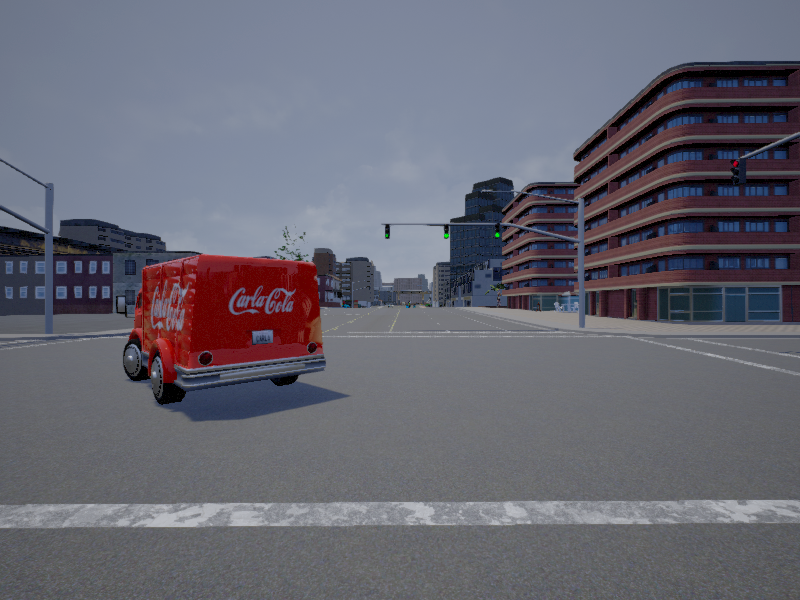Benign: (120, 256, 326, 406)
